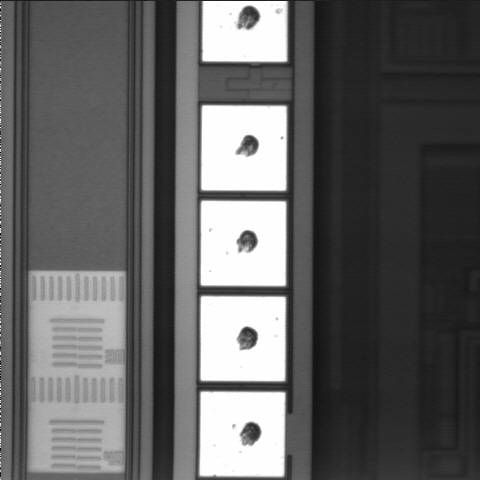pad: (201, 106, 287, 191), (201, 201, 286, 286), (201, 296, 286, 381), (200, 392, 285, 477)
